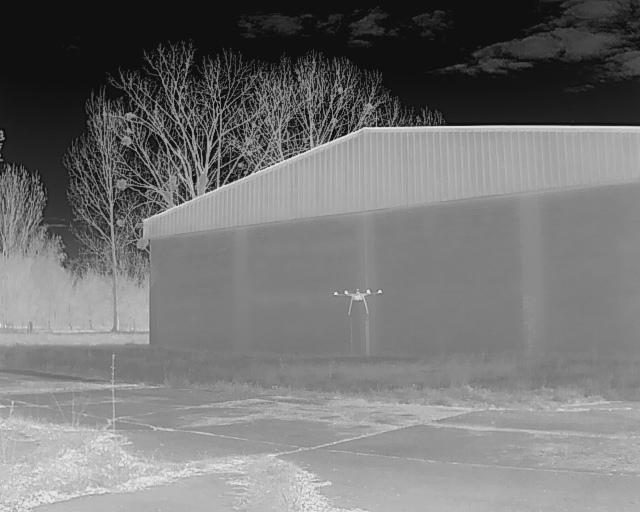drone: (327, 282, 388, 316)
